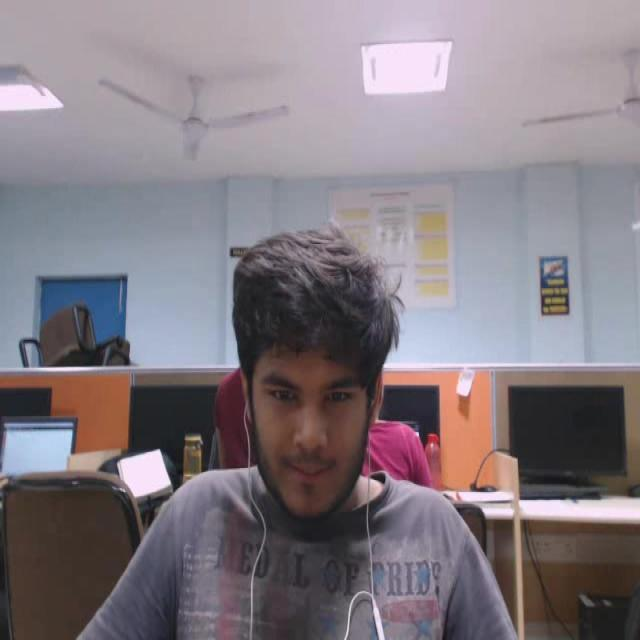Engaged: (204, 214, 423, 525)
